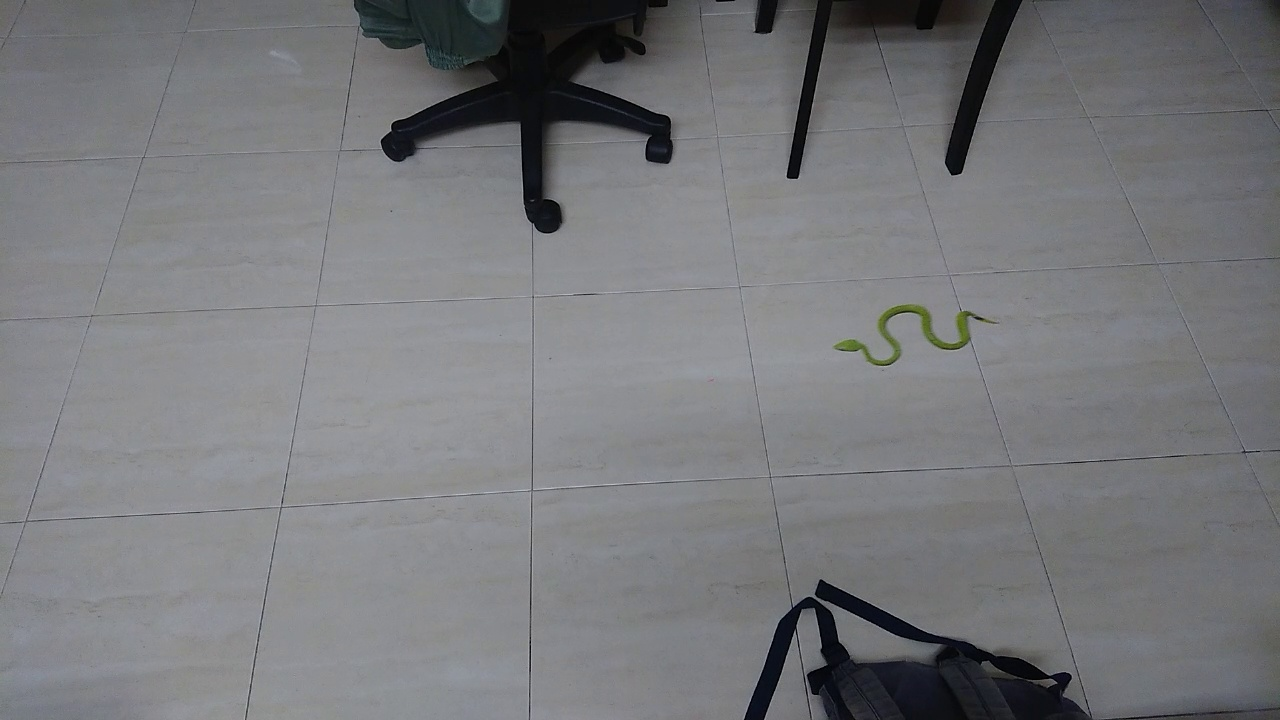snake: (816, 292, 1011, 380)
